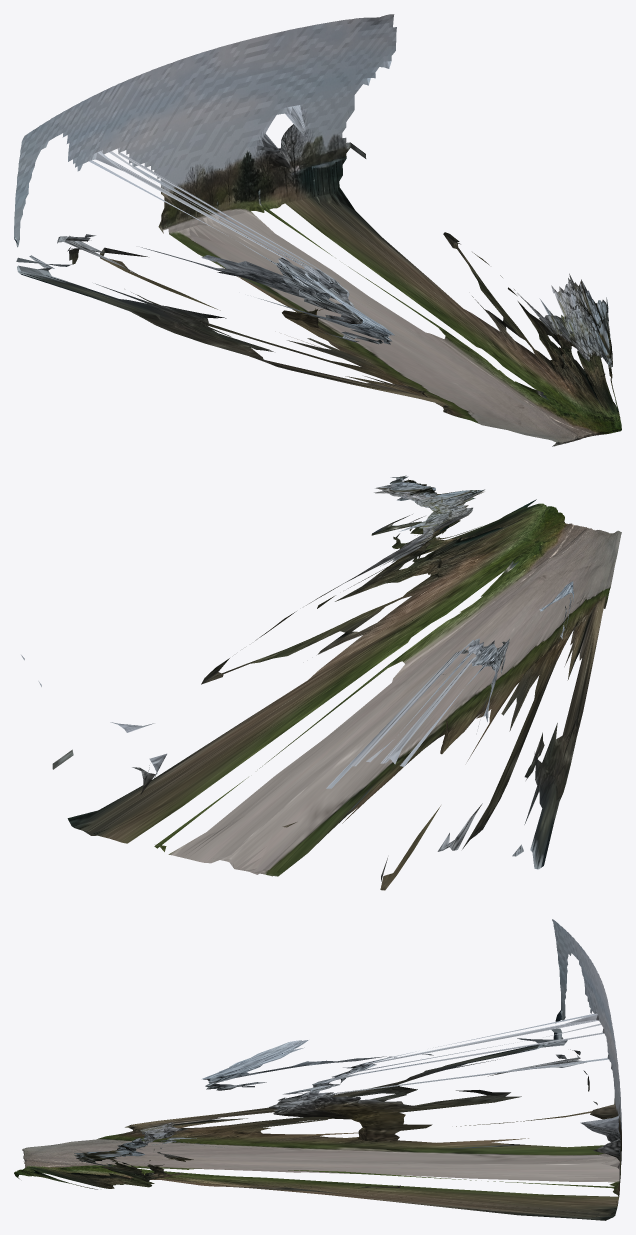
3 views of the same model, one above another, from view 1: azimuth 30°, elevation 25°; view 2: azimuth 150°, elevation 25°; view 3: azimuth 270°, elevation 25° (orthographic). The views are drawn at different scales.
Visible parts, largest first — view 1: defaultobject; view 2: defaultobject; view 3: defaultobject.
Part boxes in pixels (x1,y1,x2,y2): defaultobject: (14,14,621,446); defaultobject: (21,475,621,890); defaultobject: (14,919,621,1220).
Size of the model in its own units: 30.65 by 13.19 by 44.84.
Materials: 1 (1 with a texture image).
